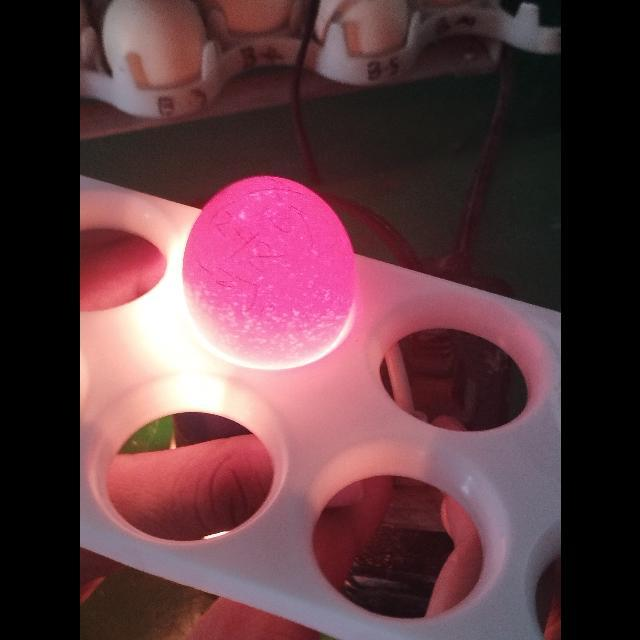Infertile: (185, 175, 358, 365)
